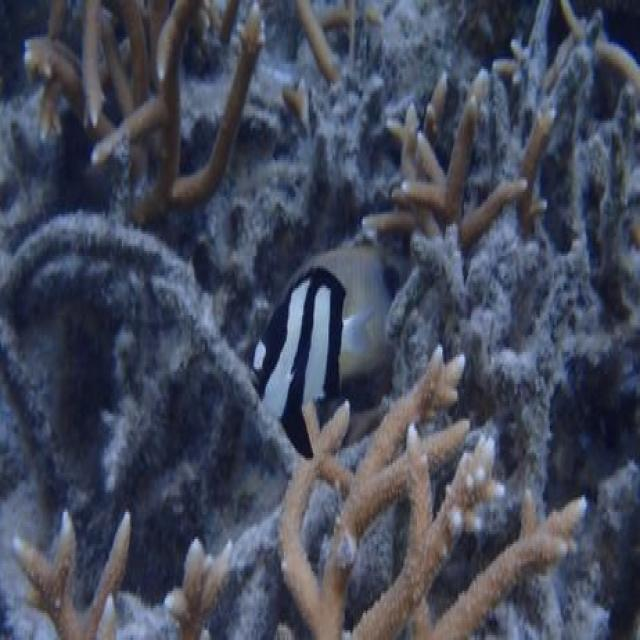ThreeStripedDamselfish: (252, 268, 375, 460)
